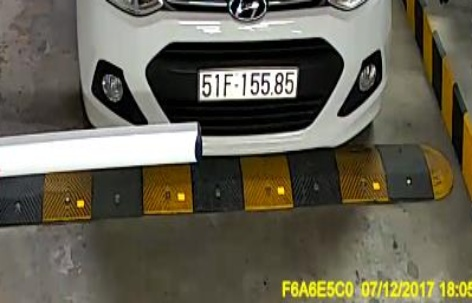plate: (198, 62, 301, 102)
